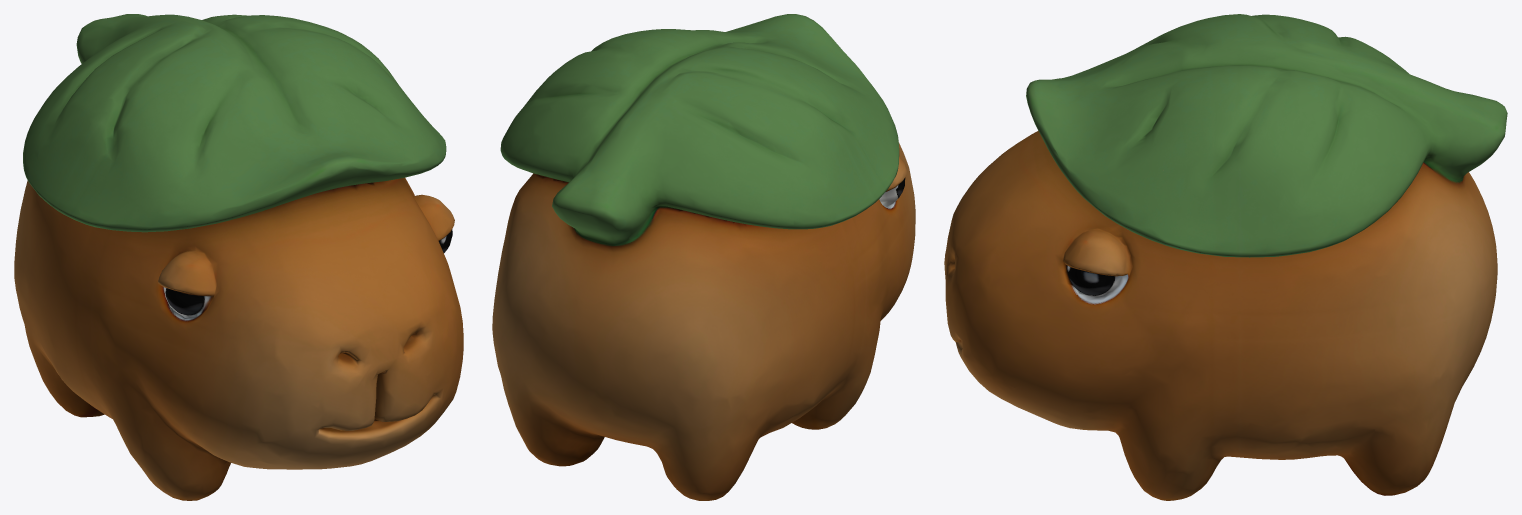
The model's file is bobo.glb.
The picture shows the model from 3 angles, left to right: view 1: azimuth 30°, elevation 25°; view 2: azimuth 150°, elevation 25°; view 3: azimuth 270°, elevation 25°; orthographic projection. The views are drawn at different scales.
Visible parts, largest first — view 1: tripo_node_61e38b1b-4119-43b0-8ca5-b5f1c20e62ad; view 2: tripo_node_61e38b1b-4119-43b0-8ca5-b5f1c20e62ad; view 3: tripo_node_61e38b1b-4119-43b0-8ca5-b5f1c20e62ad.
Boxes of the visible parts, bbox=[...] form: tripo_node_61e38b1b-4119-43b0-8ca5-b5f1c20e62ad: bbox=[14, 14, 463, 500]; tripo_node_61e38b1b-4119-43b0-8ca5-b5f1c20e62ad: bbox=[492, 14, 915, 500]; tripo_node_61e38b1b-4119-43b0-8ca5-b5f1c20e62ad: bbox=[944, 14, 1507, 500].
Bounding box in the file's own units: 0.753 × 0.7981 × 1.
1 material, 1 textured.
